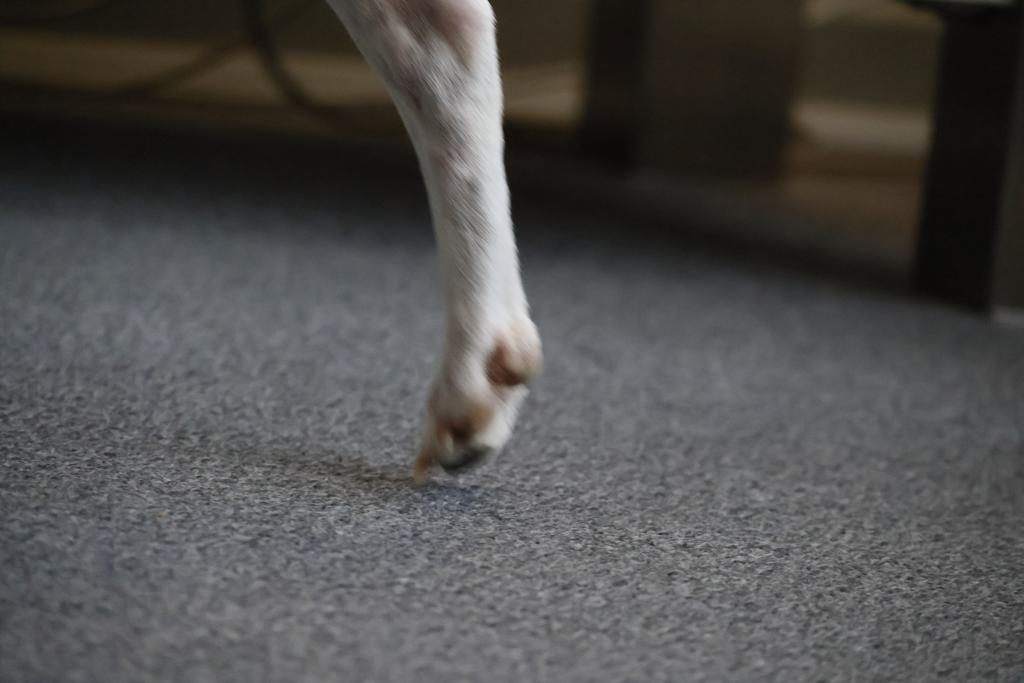Dog: (311, 0, 558, 513)
